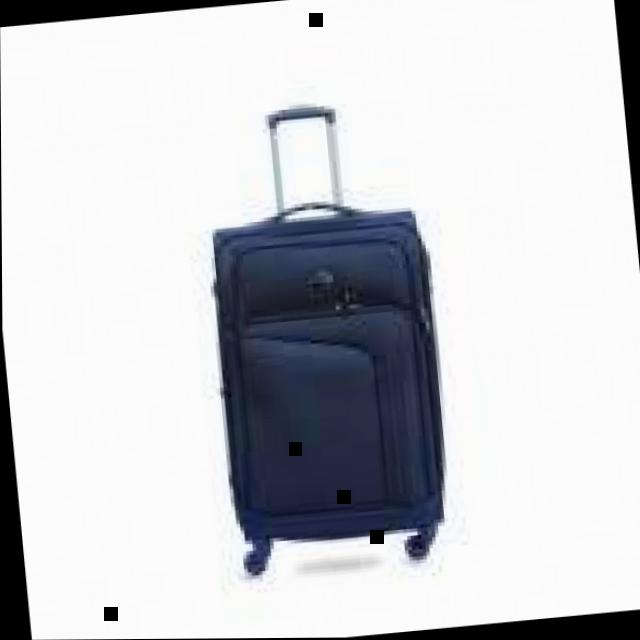luggage: (195, 184, 466, 554)
